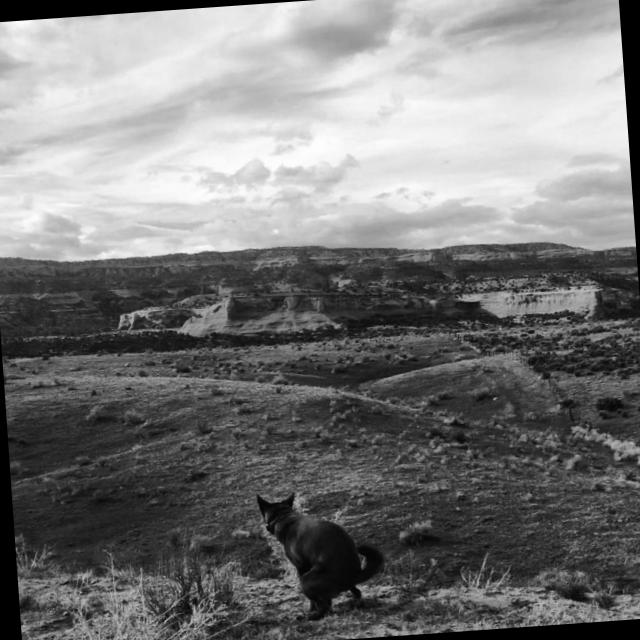squatting: (243, 484, 396, 628)
